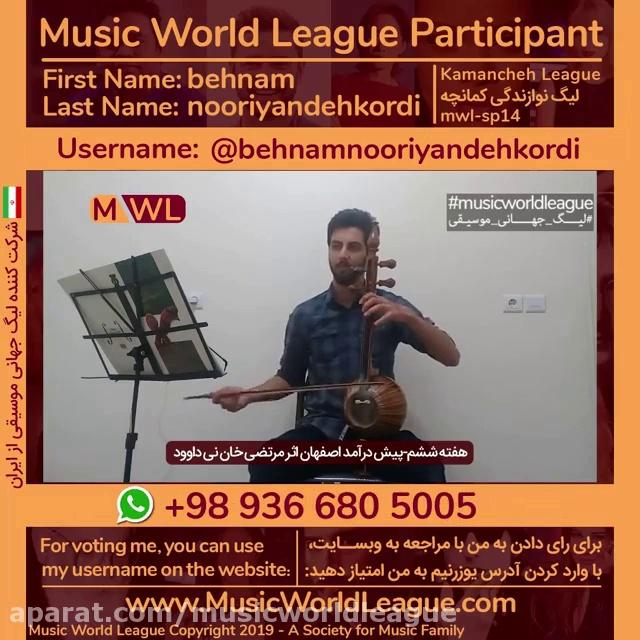Santur: (338, 241, 415, 433)
